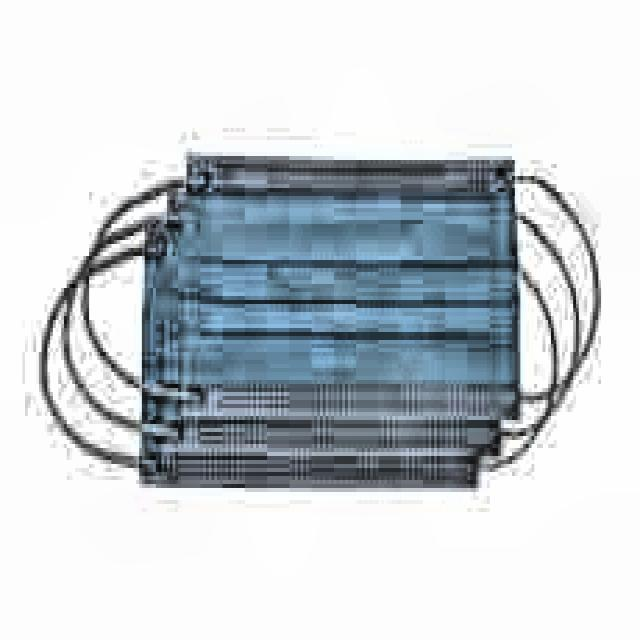trash: (139, 141, 521, 511), (170, 146, 549, 419), (159, 187, 535, 458)
